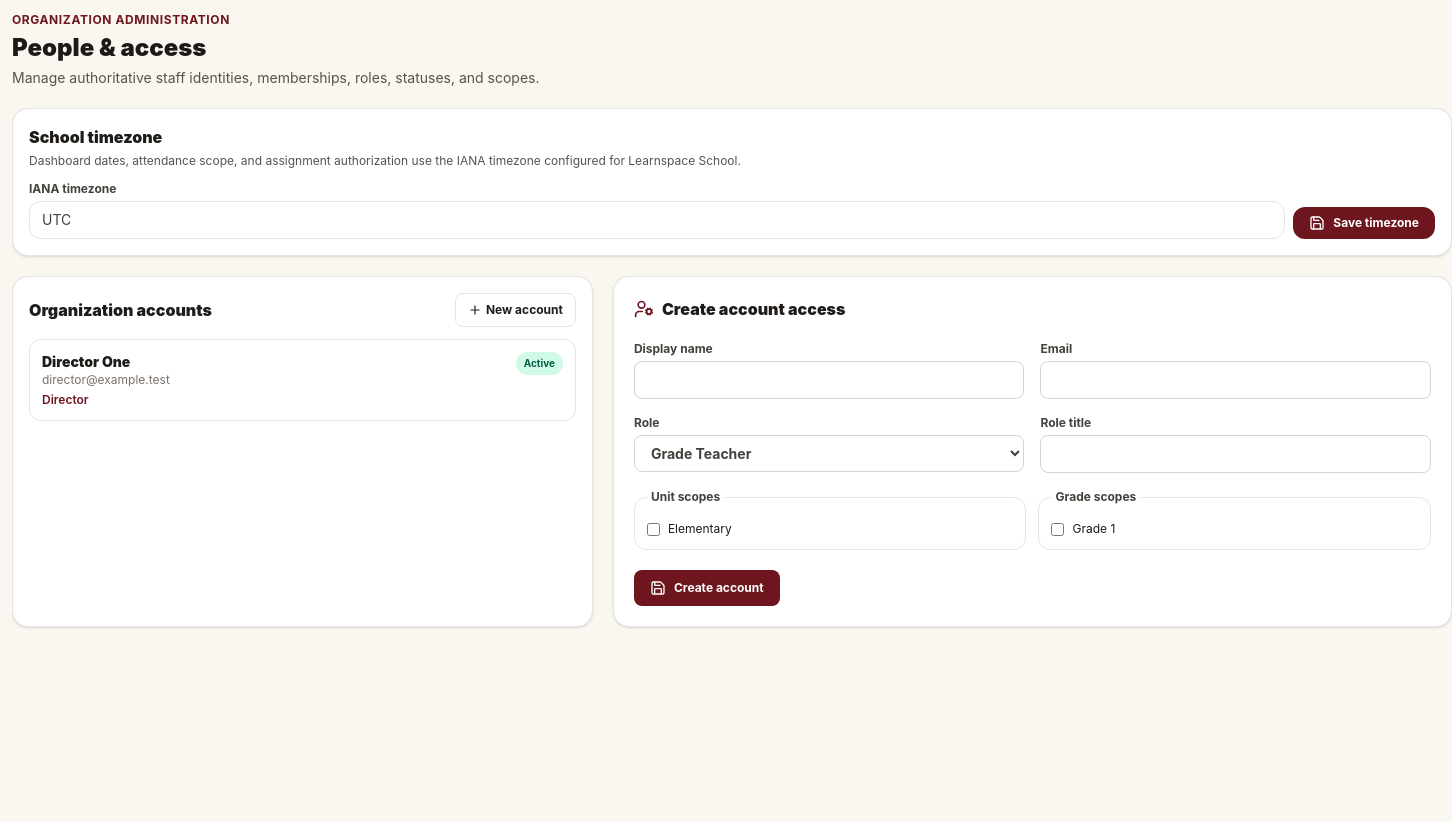
Test: PeopleAccessView › preserves and marks a newer timezone draft as unsaved when an older save resolves
The width and height of the screenshot is (1452, 822).
Replace the text in the field labelled "IANA timezone" with "America/Los_Angeles" at coordinates (657, 220), box [29,201,1285,239]
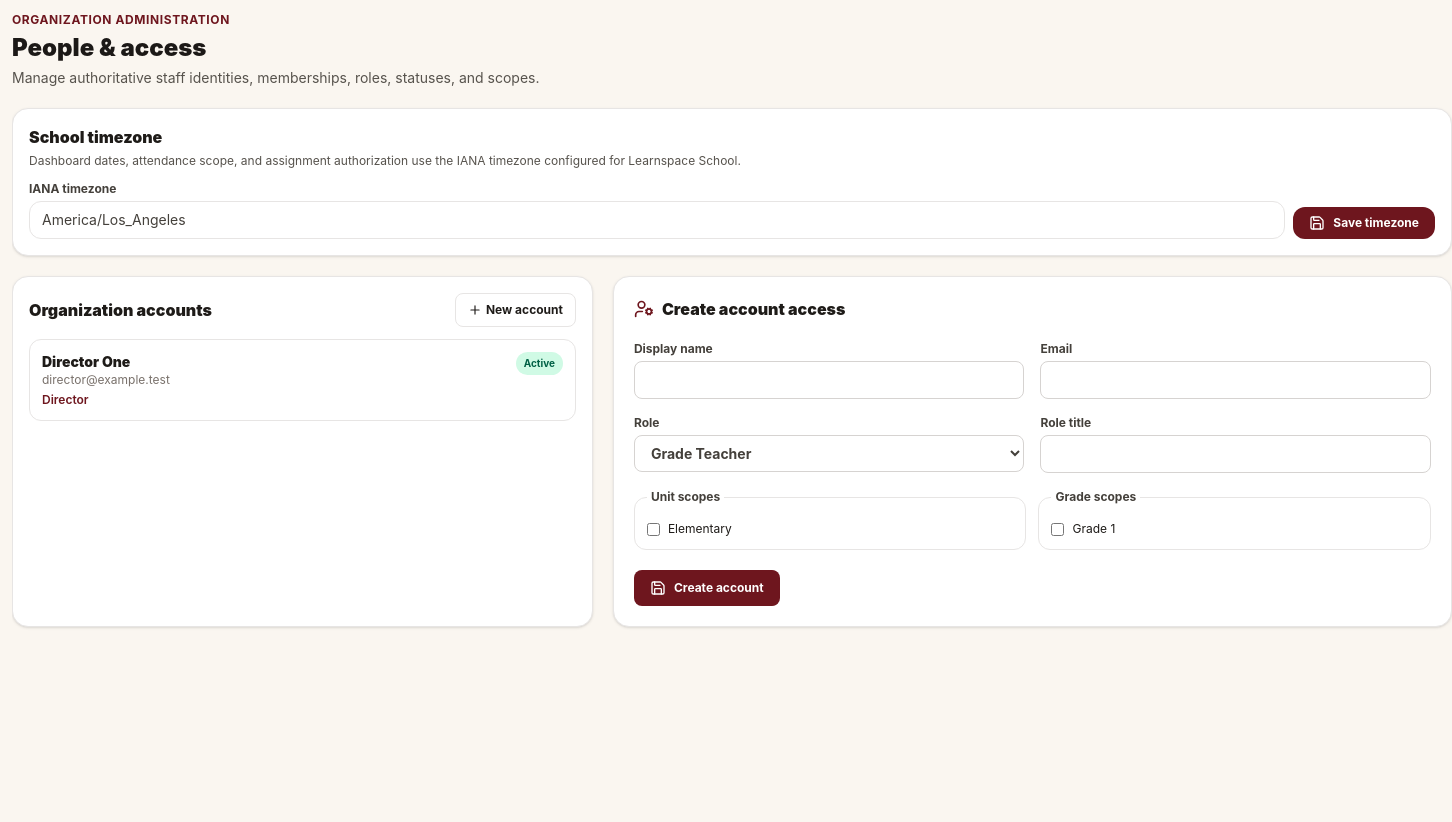
Click the button "Save timezone".
click(1364, 223)  # box [1293,207,1435,239]
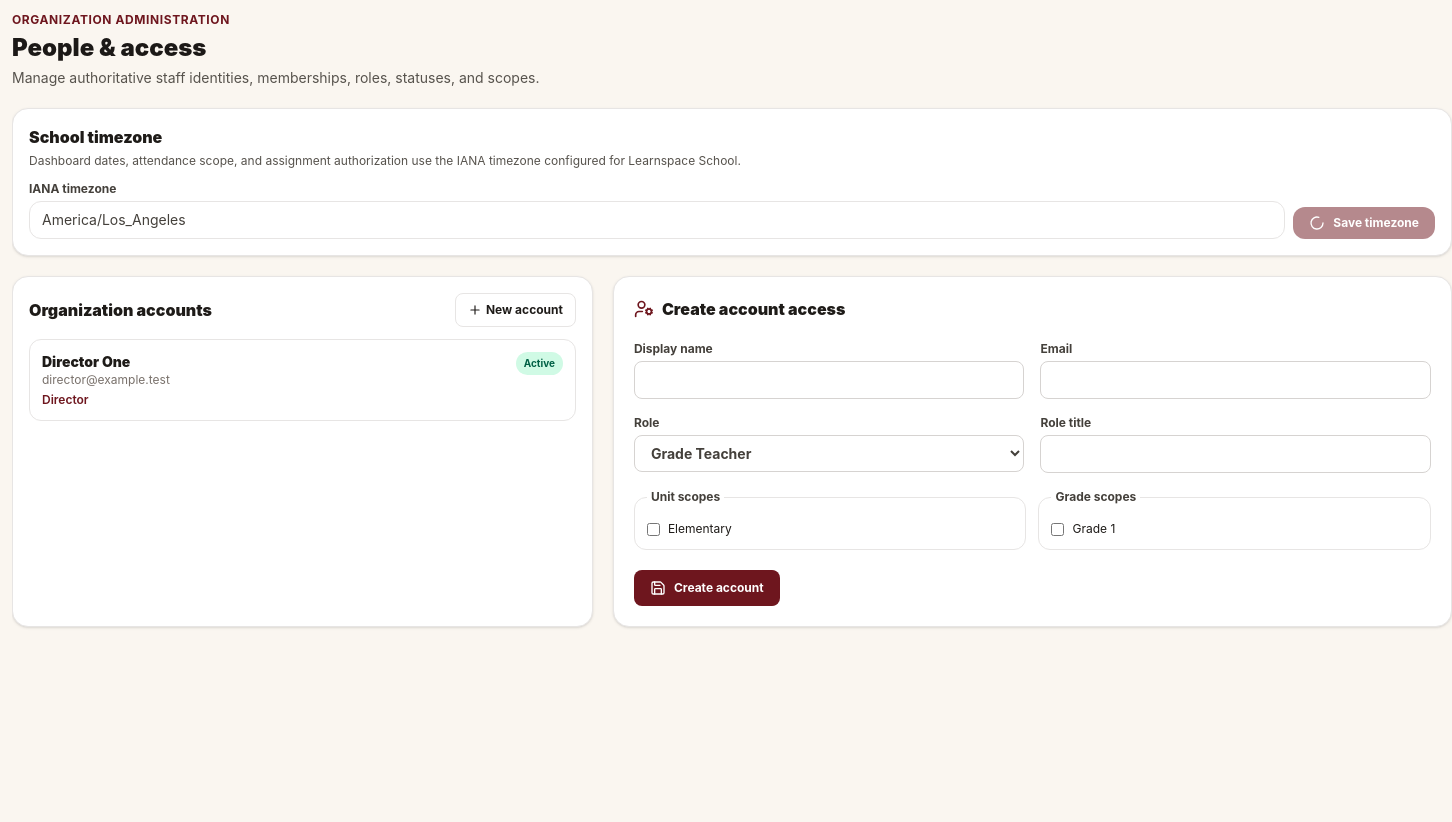
Type "Asia/Tokyo" into the field labelled "IANA timezone".
click(657, 220); type("Asia/Tokyo")  # box [29,201,1285,239]
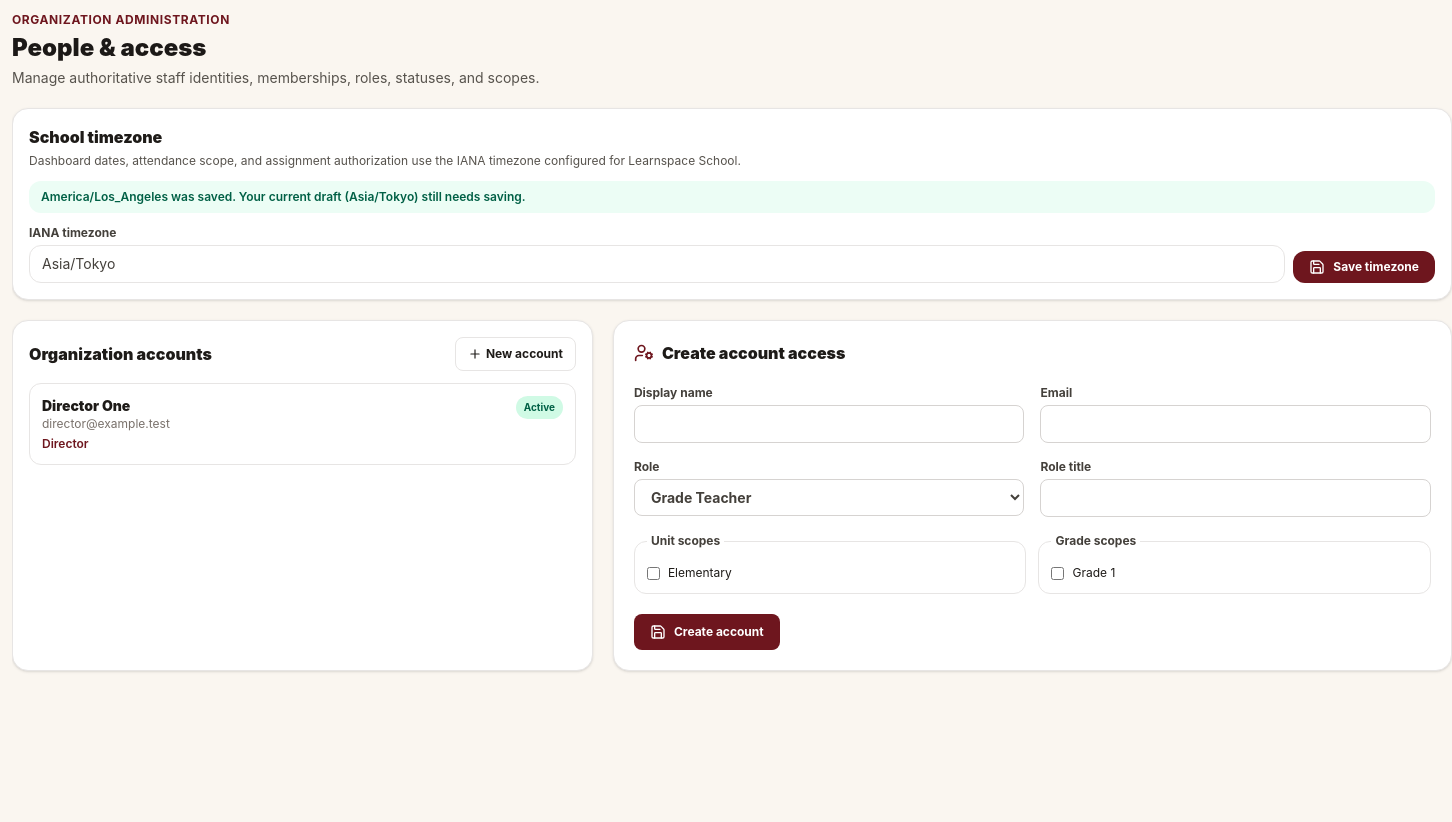
Result: the text "America/Los_Angeles was saved. Your current draft (Asia/Tokyo) still needs saving." is shown at [41,189,526,204]
